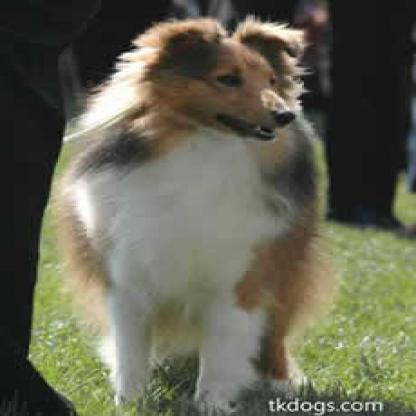Shetland_sheepdog: (58, 15, 334, 410)
